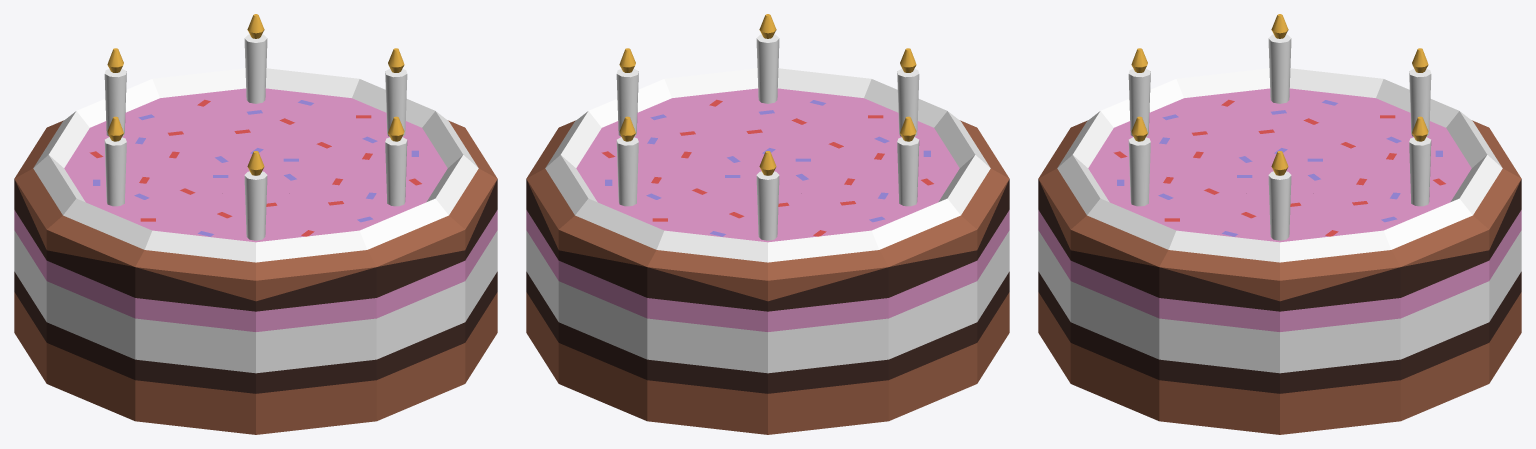
The model's file is cakeBirthday.fbx.
3 renders of one model, left to right at view 1: azimuth 30°, elevation 25°; view 2: azimuth 150°, elevation 25°; view 3: azimuth 270°, elevation 25°, orthographic.
Parts seen in each view (by area): view 1: slice (×6); view 2: slice (×6); view 3: slice (×6).
Boxes of the visible parts, x1,y1,x2,y2 form: slice (×6): (14, 14, 497, 434); slice (×6): (526, 14, 1009, 434); slice (×6): (1038, 14, 1521, 434).
Size of the model in its own units: 6.39 by 3.64 by 6.39.
